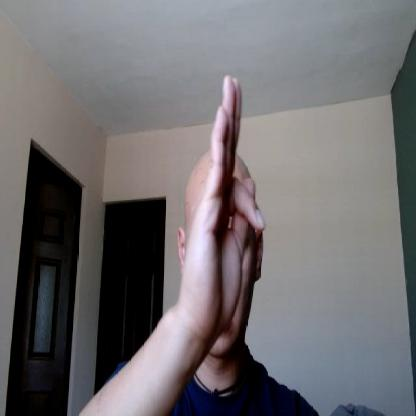F: (181, 73, 265, 337)
